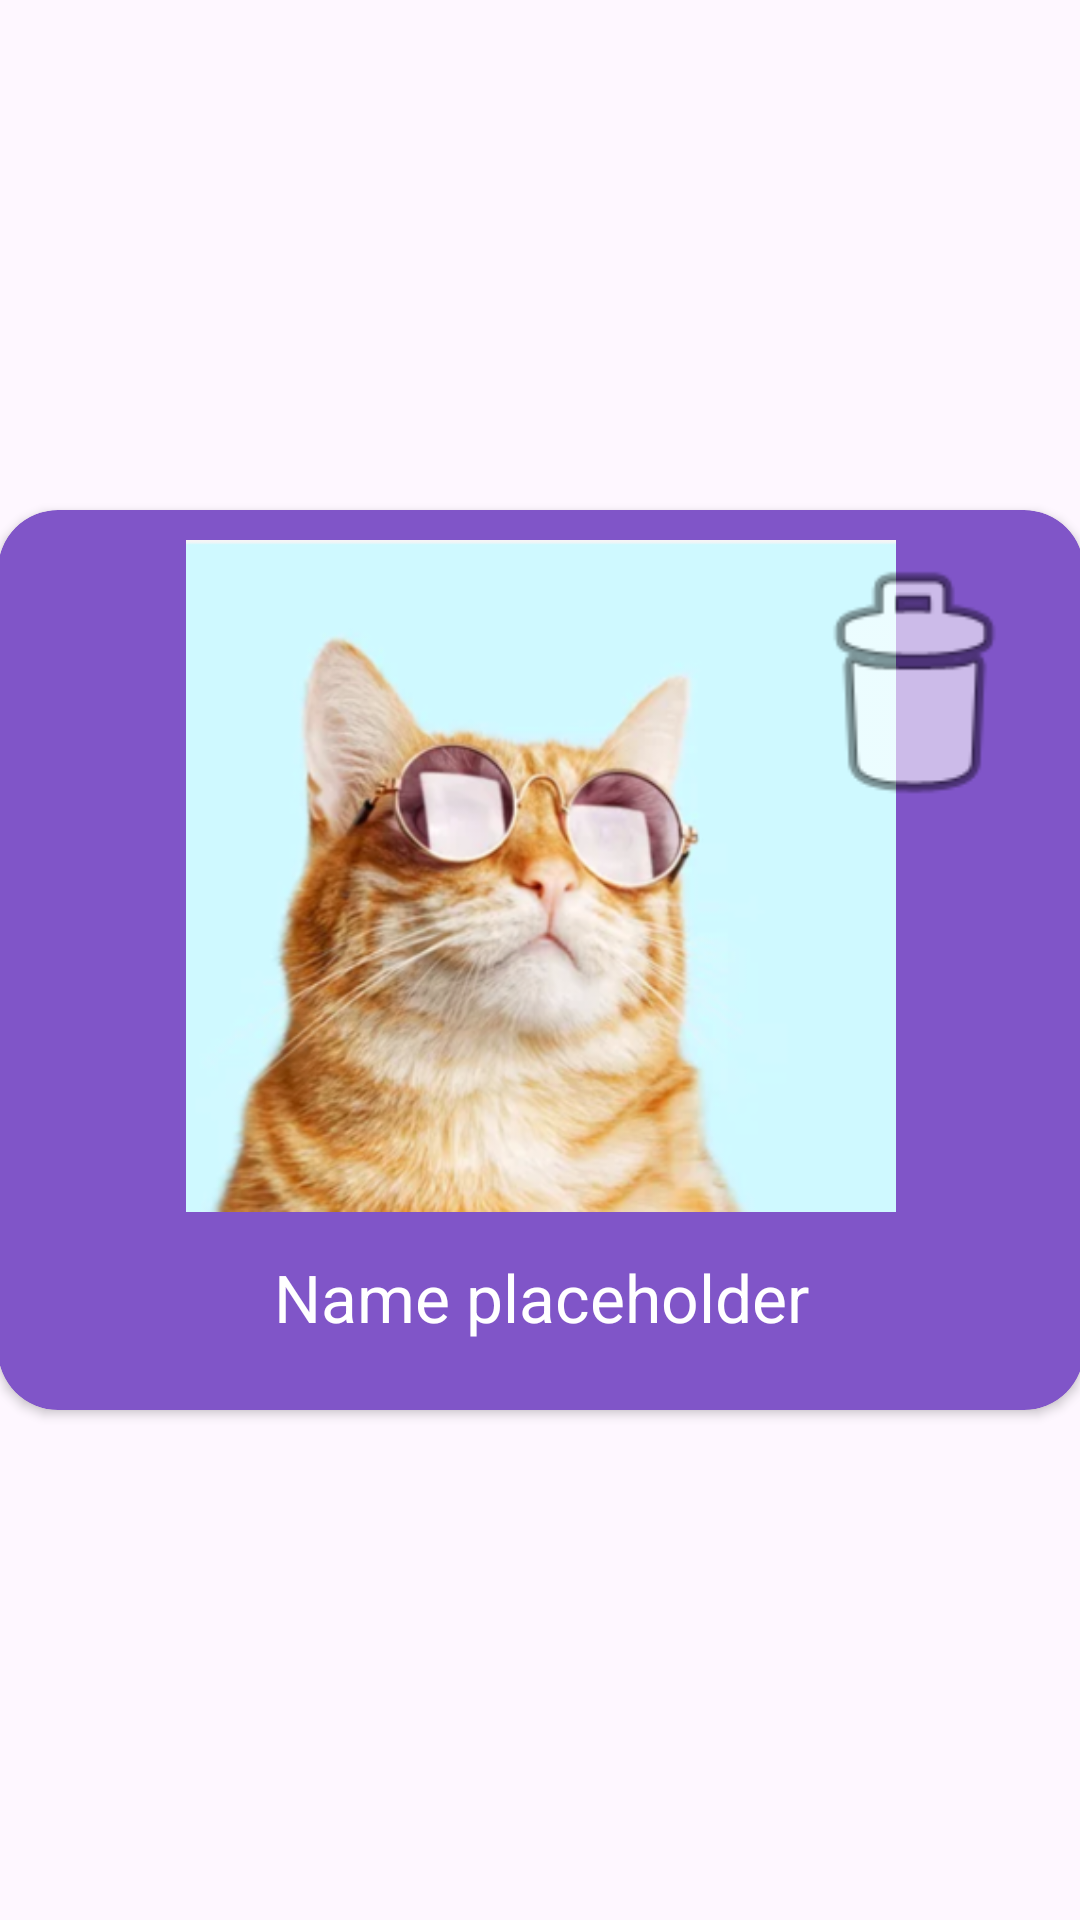

Named icons in this screenshot (1080w x 1920h) and their centers, (x=x, y=y):
delete: (x=883, y=687)
